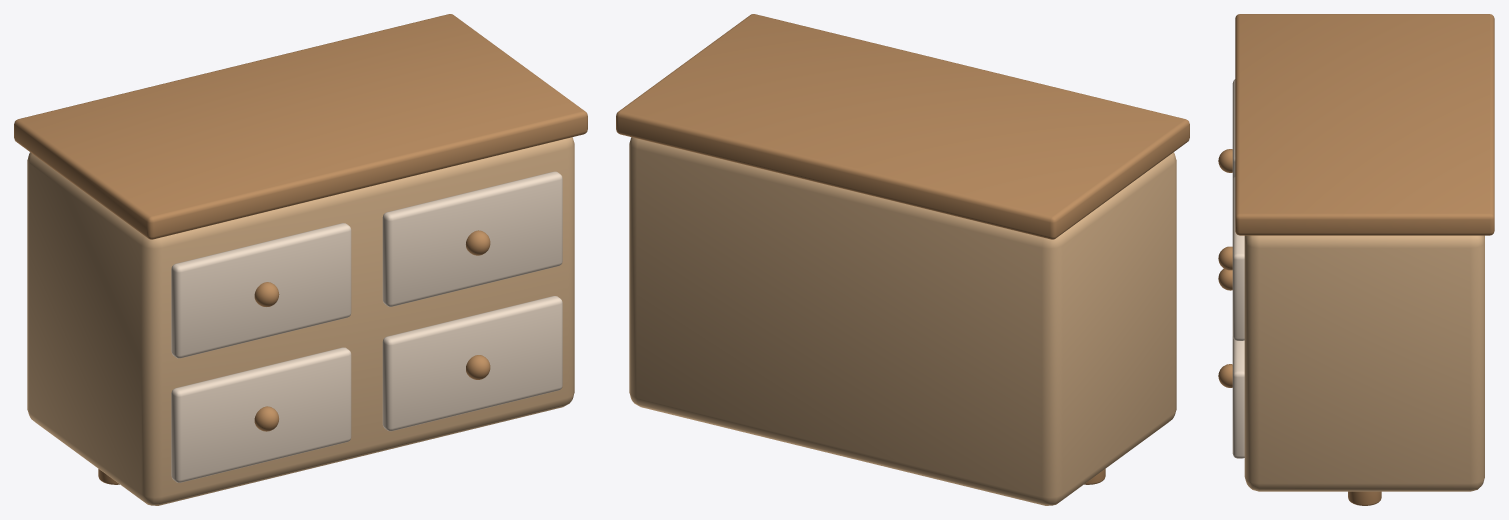
File: dresser.glb
The picture shows the model from 3 angles, left to right: view 1: azimuth 30°, elevation 25°; view 2: azimuth 150°, elevation 25°; view 3: azimuth 270°, elevation 25°; orthographic projection. The views are drawn at different scales.
Visible parts, largest first — view 1: dresser; view 2: dresser; view 3: dresser.
Boxes of the visible parts, x1,y1,x2,y2 form: dresser: [14, 14, 587, 505]; dresser: [616, 14, 1189, 505]; dresser: [1218, 14, 1494, 505].
Size of the model in its own units: 1 by 0.69 by 0.575.
